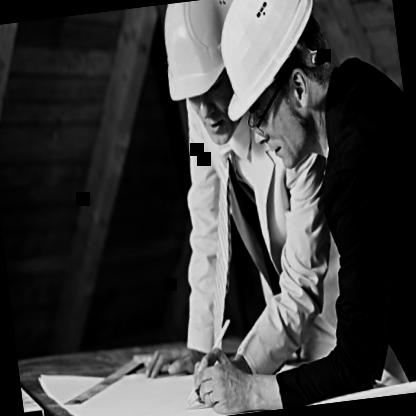helmet: (175, 0, 351, 182), (146, 0, 276, 167)
